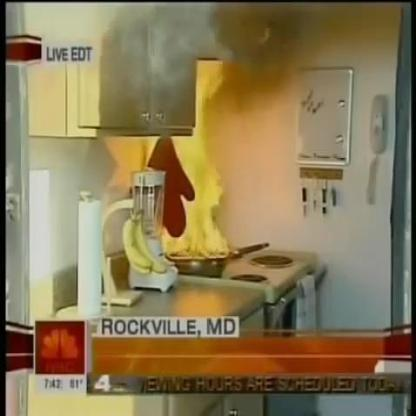fire: (152, 59, 235, 263)
